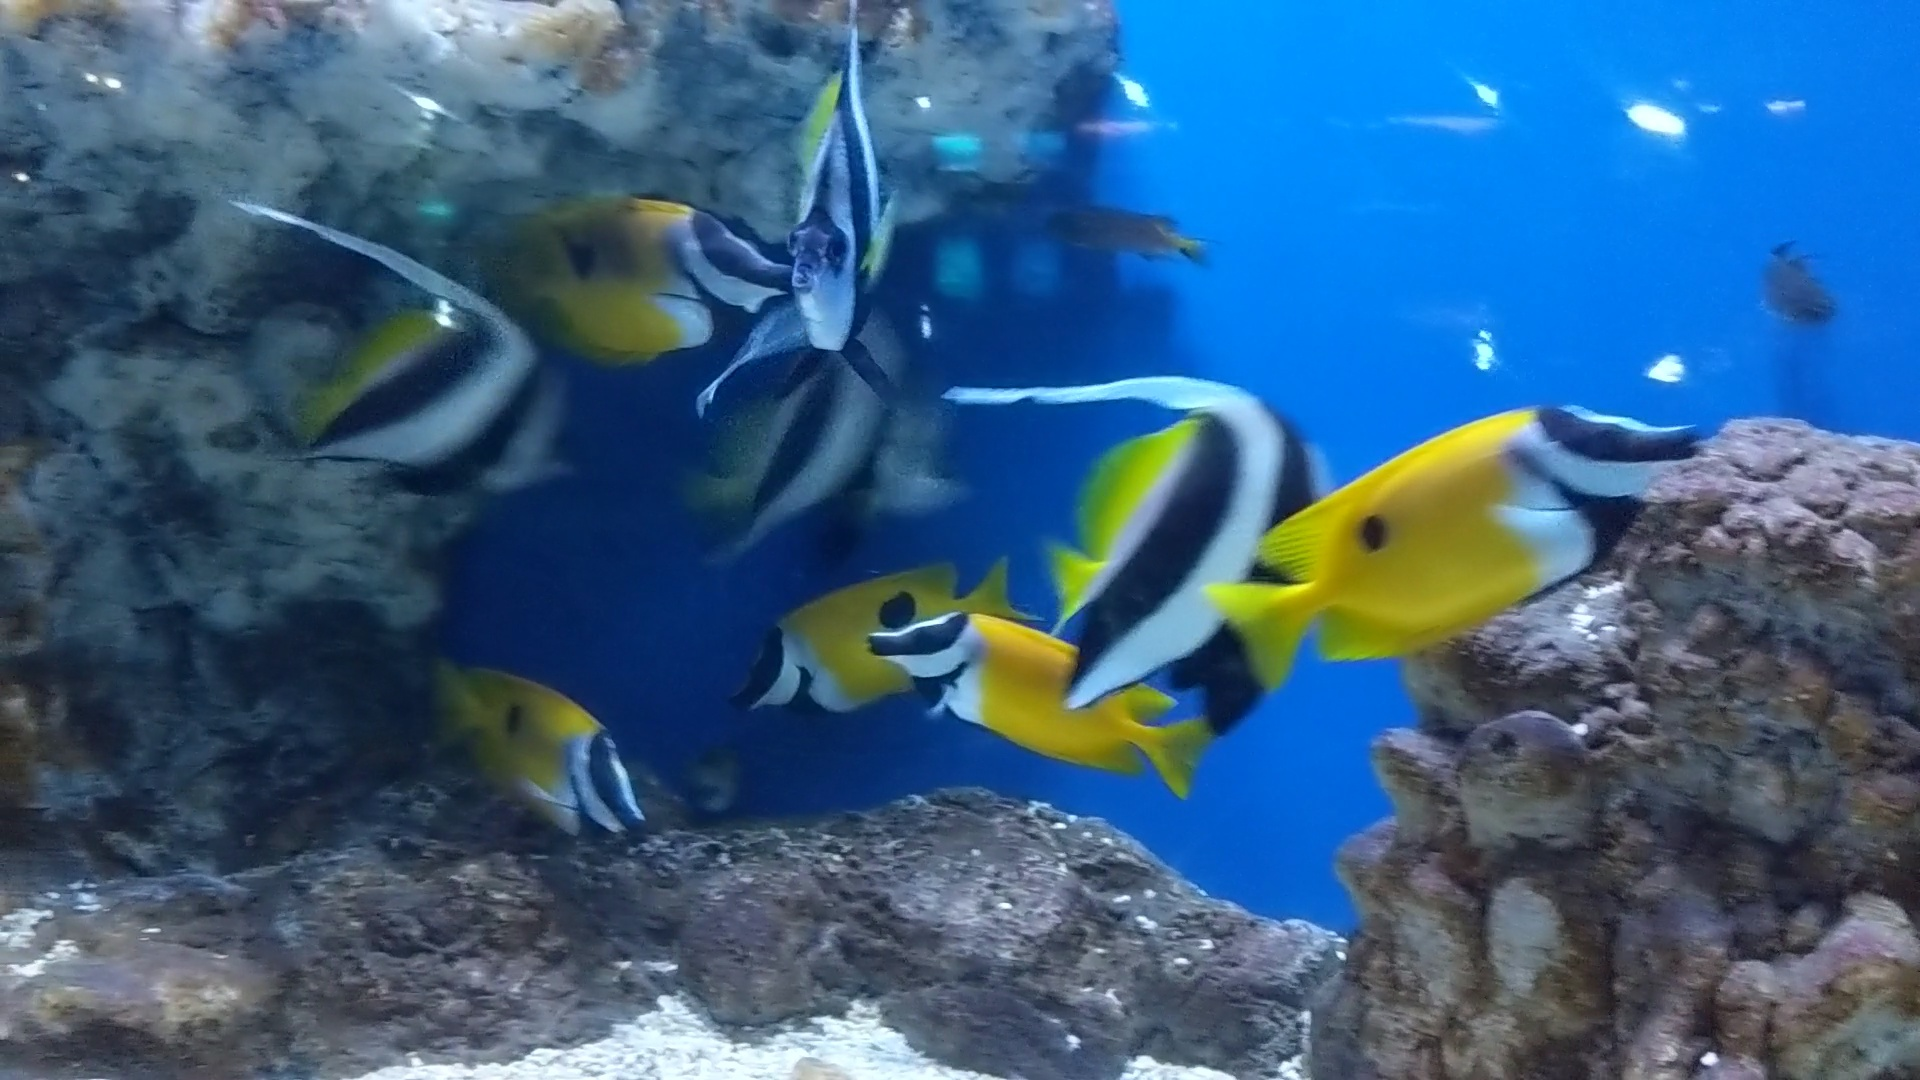moorfish: (978, 348, 1319, 692), (278, 189, 584, 502), (704, 316, 944, 549), (758, 50, 913, 390)
rabbitfish: (1234, 410, 1691, 716), (855, 584, 1191, 800), (417, 669, 673, 858), (738, 549, 1002, 723), (440, 224, 789, 344)
